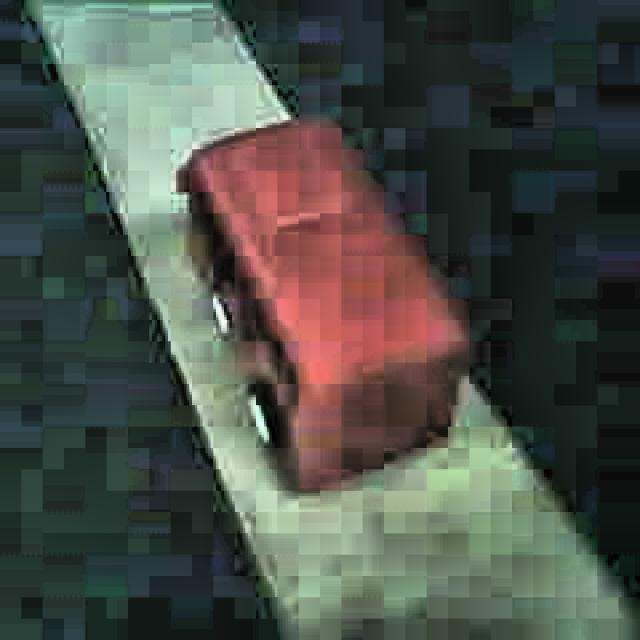bus: (174, 113, 473, 496)
